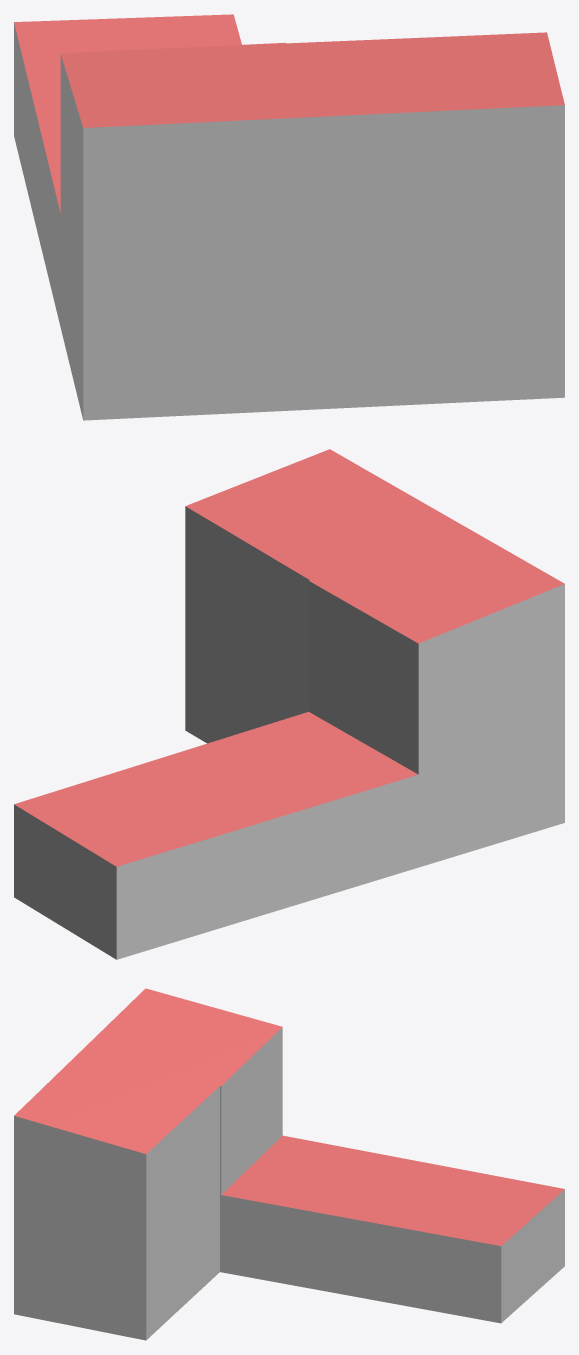
The model's file is DEBY_LOD2_4907174.gltf.
3 renders of one model, top to bottom at view 1: azimuth 30°, elevation 25°; view 2: azimuth 150°, elevation 25°; view 3: azimuth 270°, elevation 25°, orthographic. The views are drawn at different scales.
Parts seen in each view (by area): view 1: Z_UP; view 2: Z_UP; view 3: Z_UP.
Boxes of the visible parts, x1,y1,x2,y2 form: Z_UP: (14, 14, 564, 420); Z_UP: (14, 449, 564, 959); Z_UP: (14, 988, 564, 1340).
Size of the model in its own units: 18.98 by 11.43 by 28.75.
